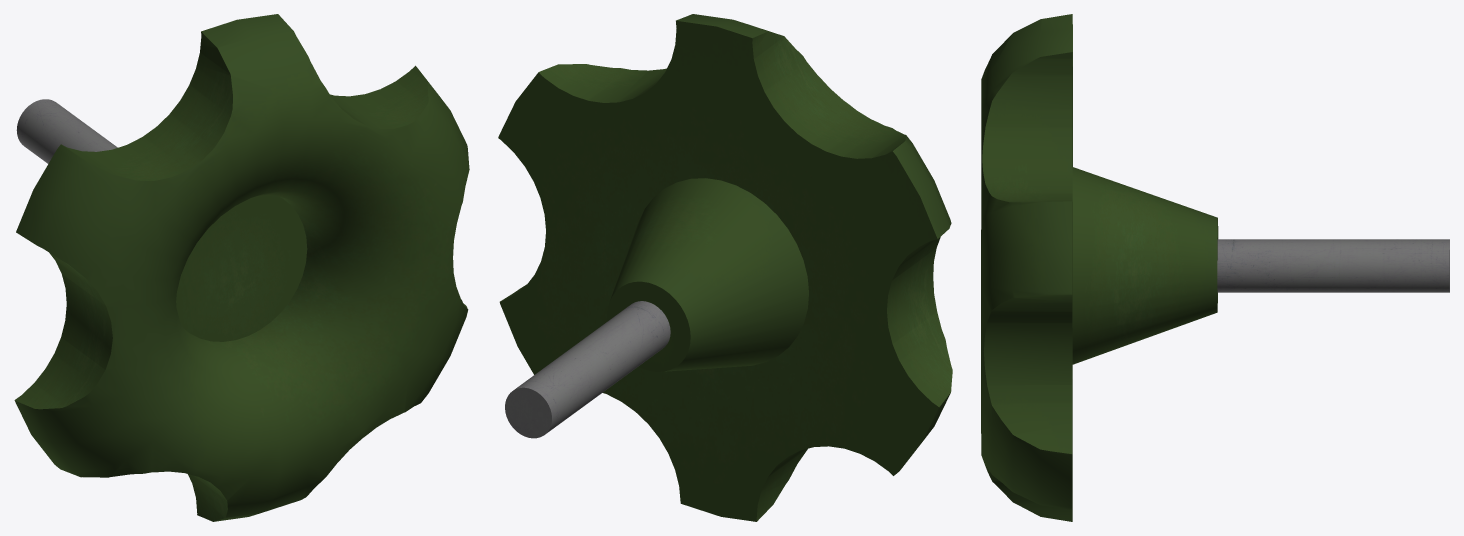
Rendered from Left_valwe.gltf.
3 views of the same model, side by side, from view 1: azimuth 30°, elevation 25°; view 2: azimuth 150°, elevation 25°; view 3: azimuth 270°, elevation 25° (orthographic). The views are drawn at different scales.
Parts seen in each view (by area): view 1: ValveTopL_1; view 2: ValveTopL_1; view 3: ValveTopL_1.
Boxes of the visible parts, x1,y1,x2,y2 form: ValveTopL_1: [14, 14, 469, 521]; ValveTopL_1: [498, 14, 952, 521]; ValveTopL_1: [981, 14, 1449, 521].
Bounding box in the file's own units: 0.0299 × 0.0317 × 0.0281.
Materials: 2 (2 with a texture image).
